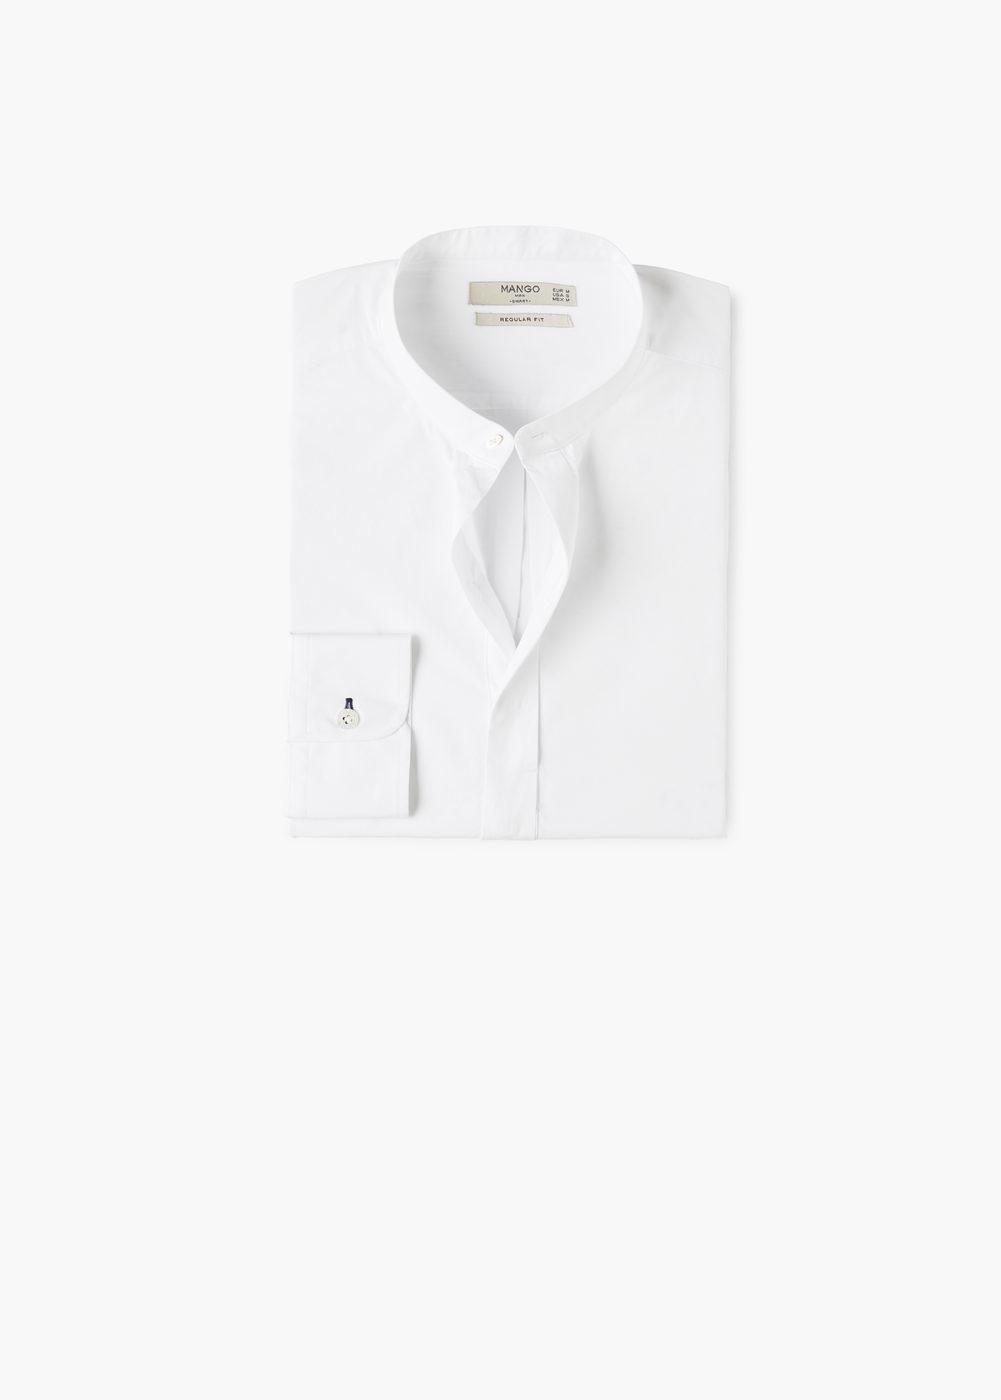teeshirt: (263, 208, 763, 872)
